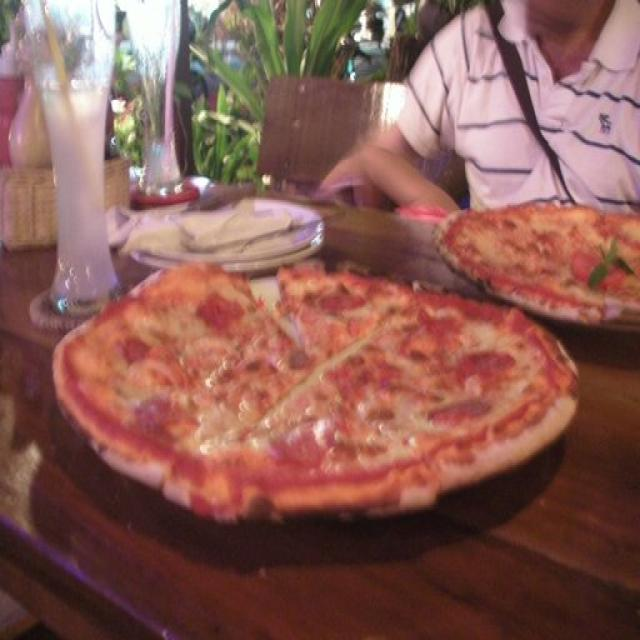Basil: (591, 240, 626, 288)
Pepperoni: (277, 427, 329, 463), (459, 352, 511, 381), (198, 296, 240, 330), (432, 400, 484, 427), (421, 314, 462, 348), (138, 398, 176, 432), (324, 293, 364, 311), (128, 334, 147, 362)
Pizza: (55, 265, 576, 523), (439, 207, 640, 327)
Tomato: (574, 252, 625, 290)
